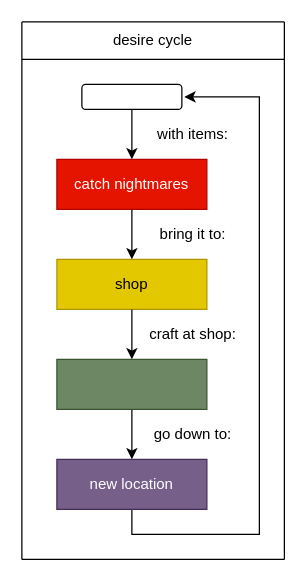
Image size: 308x583. Some labels were removed from this diagram. The shapes that lost their labels are listed below. From the top down, each one's centre as x and y in pixels, then its label:
At (x=131, y=96): "start".
At (x=131, y=383): "new items".
